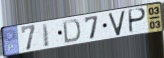7: (20, 24, 37, 52), (84, 15, 100, 41)
D: (61, 18, 82, 44)
I: (41, 22, 51, 48)
P: (128, 8, 148, 35)
V: (108, 9, 127, 37)
